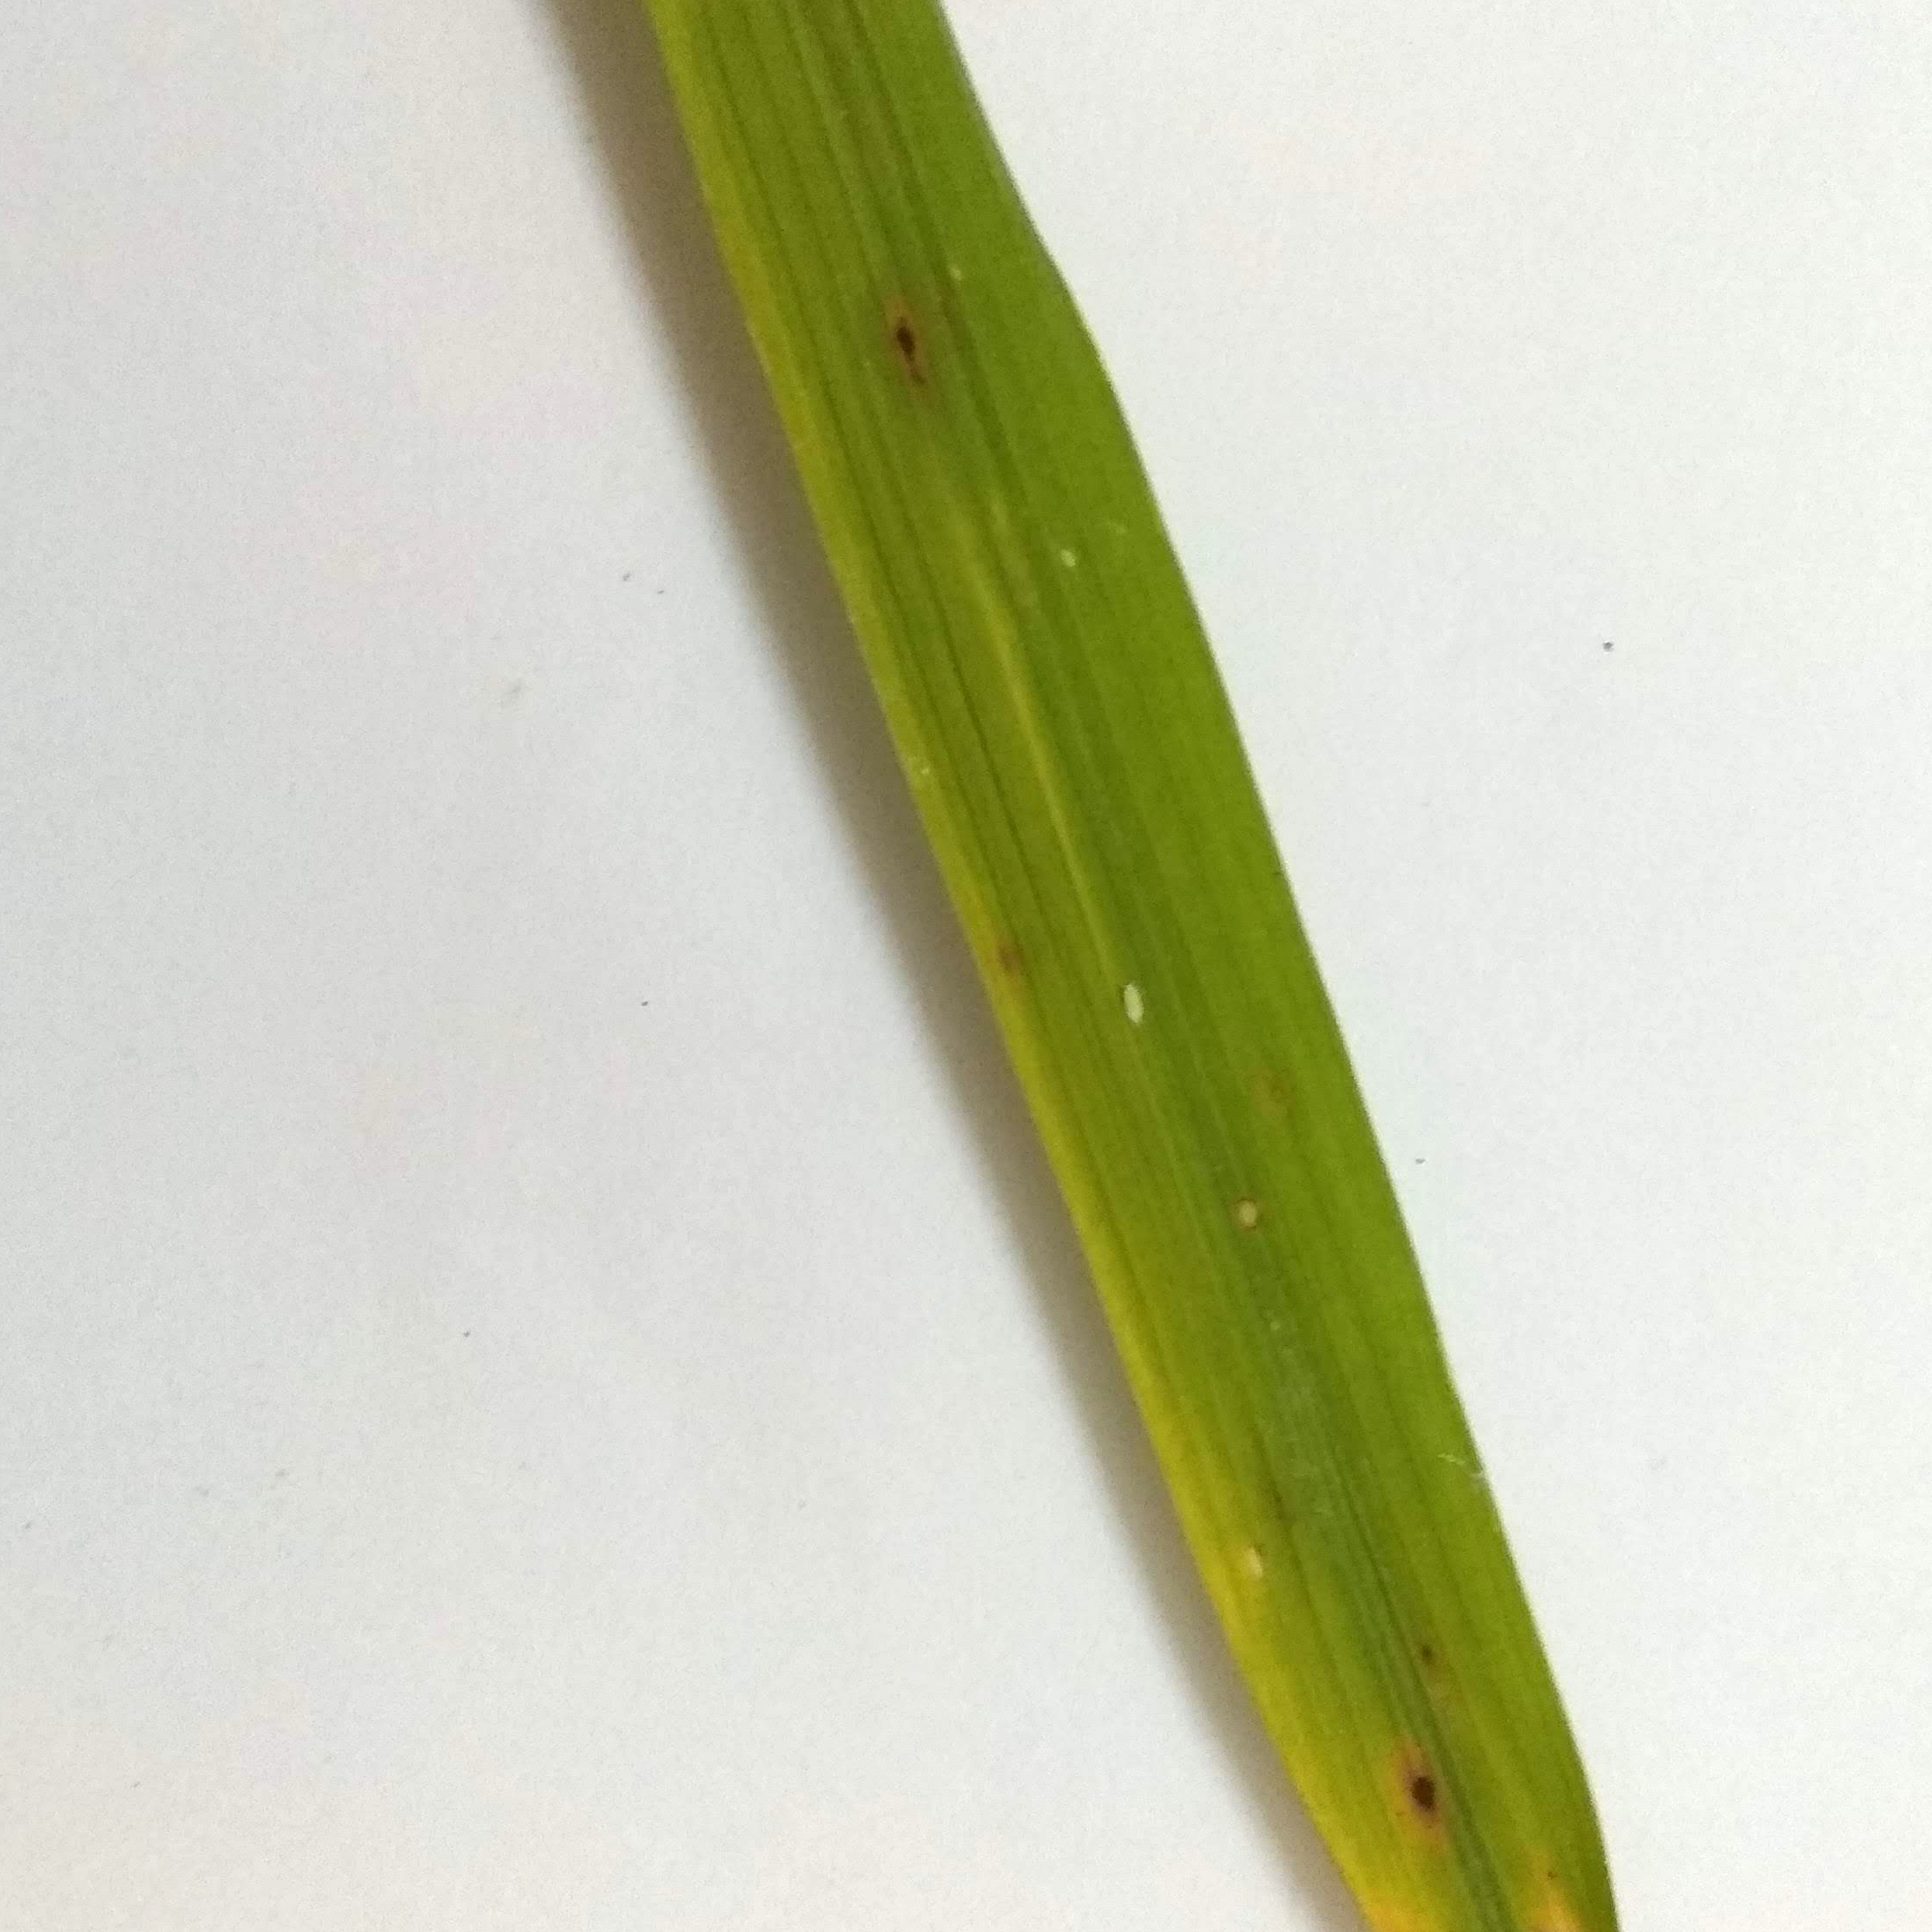brown spot: (860, 294, 954, 403), (1378, 1743, 1458, 1838), (978, 925, 1031, 1000), (1401, 1626, 1458, 1679), (1530, 1861, 1580, 1891)
